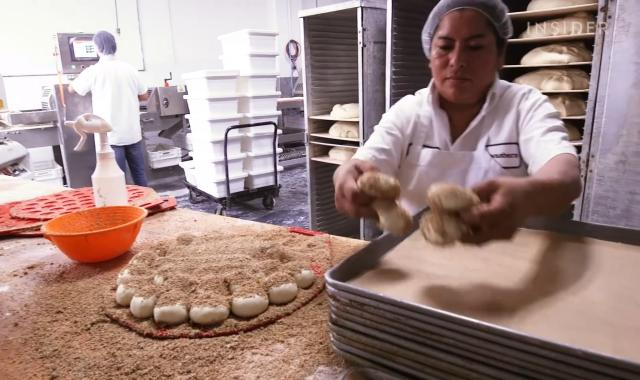hairnet: (416, 0, 512, 53), (91, 32, 117, 58)
